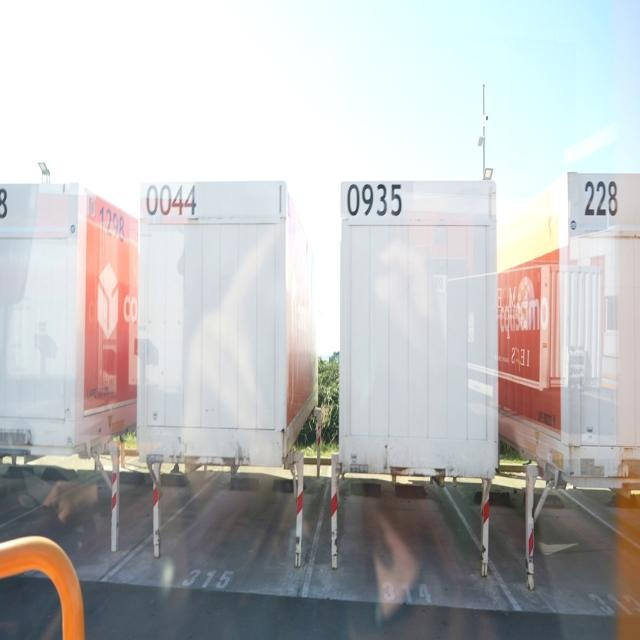Code: (143, 179, 200, 228), (346, 176, 406, 222), (578, 173, 620, 229), (96, 198, 126, 252)
